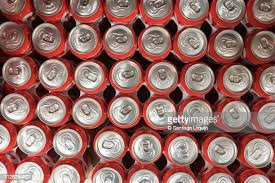can: (172, 26, 209, 63), (31, 21, 66, 58), (2, 57, 39, 92), (200, 132, 237, 167), (102, 23, 137, 59), (163, 130, 199, 165), (216, 64, 253, 98), (52, 127, 89, 160), (210, 26, 245, 60), (68, 23, 102, 58), (128, 129, 161, 165), (139, 25, 172, 60), (109, 60, 144, 93), (74, 60, 109, 93), (92, 129, 127, 162), (179, 63, 215, 95), (39, 60, 75, 92), (71, 94, 106, 126), (106, 96, 141, 128), (239, 135, 271, 170), (144, 62, 177, 95), (178, 98, 212, 130), (36, 94, 71, 124), (0, 19, 29, 55), (17, 124, 49, 156), (142, 97, 176, 127), (1, 93, 35, 122), (247, 27, 275, 62), (217, 101, 250, 130), (50, 160, 88, 183), (12, 159, 48, 183), (210, 0, 246, 23), (173, 0, 209, 22), (138, 0, 174, 22), (88, 162, 127, 182), (253, 65, 275, 100), (103, 0, 138, 21), (69, 0, 102, 22), (252, 102, 274, 134), (248, 0, 275, 25), (33, 0, 67, 19), (127, 165, 161, 182), (0, 0, 33, 17), (161, 168, 197, 183), (236, 171, 275, 183), (0, 123, 15, 153), (200, 170, 236, 182), (0, 157, 9, 182)
